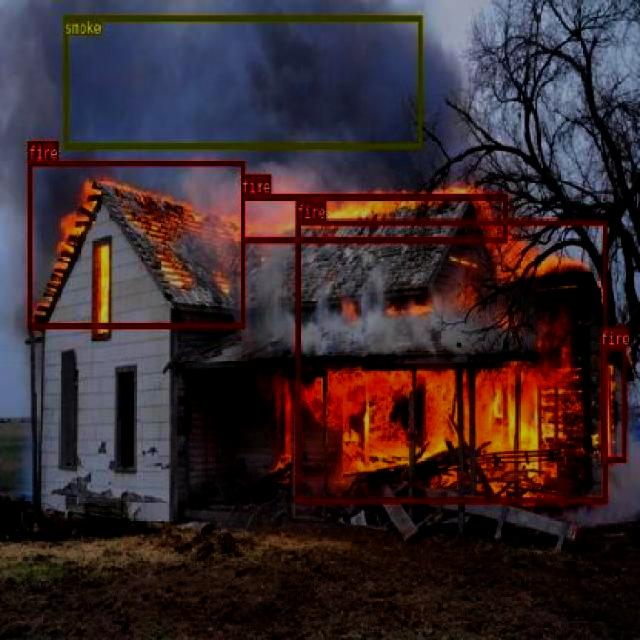fire: (296, 218, 606, 502), (27, 160, 244, 328), (240, 193, 506, 241), (600, 346, 625, 460)
smoke: (64, 15, 422, 148)
